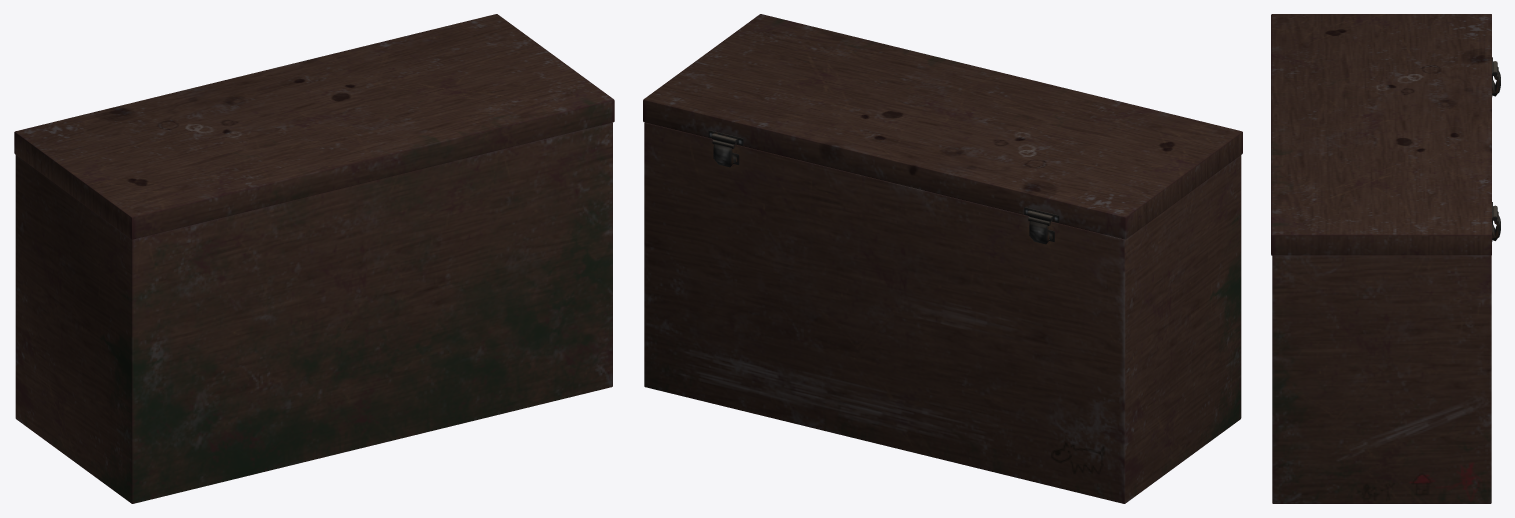
The model's file is wardrobe_lp.glb.
The picture shows the model from 3 angles, left to right: view 1: azimuth 30°, elevation 25°; view 2: azimuth 150°, elevation 25°; view 3: azimuth 270°, elevation 25°; orthographic projection. The views are drawn at different scales.
Parts seen in each view (by area): view 1: Wardrobe_LP_Main_0; view 2: Wardrobe_LP_Main_0, Wardrobe_LP_Transparent_0; view 3: Wardrobe_LP_Main_0, Wardrobe_LP_Transparent_0.
Part boxes in pixels (left/top/right/bottom): Wardrobe_LP_Main_0: left=14, top=14, right=614, bottom=503; Wardrobe_LP_Main_0: left=643, top=14, right=1242, bottom=503; Wardrobe_LP_Transparent_0: left=708, top=130, right=1059, bottom=244; Wardrobe_LP_Main_0: left=1271, top=14, right=1491, bottom=503; Wardrobe_LP_Transparent_0: left=1492, top=57, right=1500, bottom=241.
Size of the model in its own units: 1.05 by 0.6004 by 0.4629.
2 materials, 2 textured.
